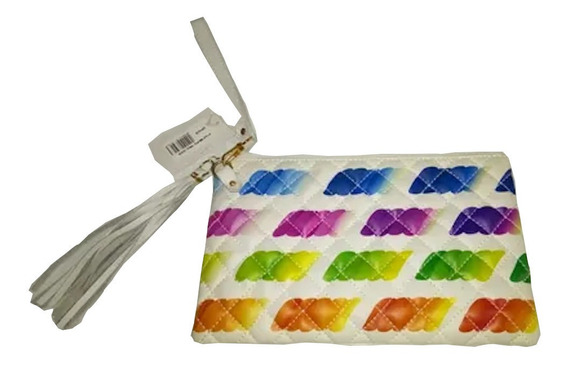cartera: (191, 141, 543, 354)
